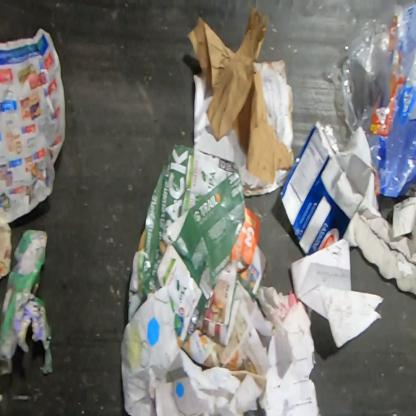cardboard: (278, 119, 383, 256), (191, 73, 291, 197), (0, 227, 54, 377), (354, 196, 415, 297), (252, 57, 295, 166)
soft_plastic: (322, 0, 415, 200)
